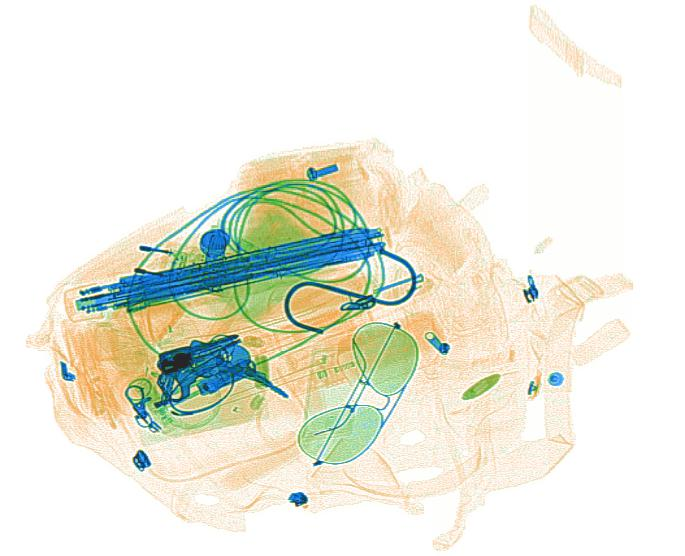plasticBottleWithaNozzle: (284, 308, 451, 398)
